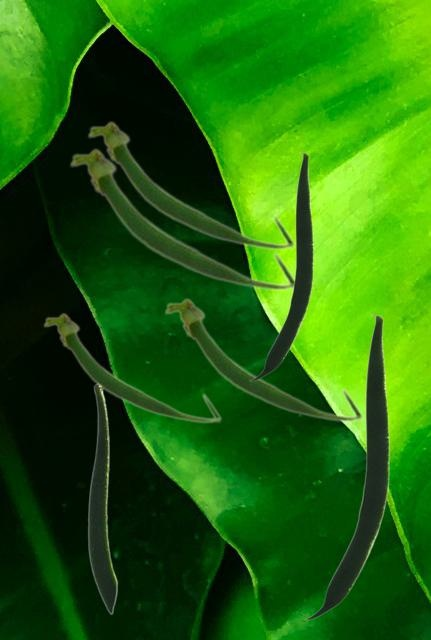french_bean: (68, 146, 294, 291), (86, 119, 294, 250), (304, 314, 388, 619), (163, 296, 363, 422), (42, 311, 221, 423), (249, 152, 312, 380), (87, 384, 117, 614)
